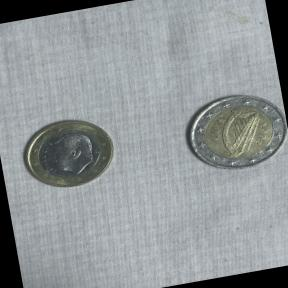coin: (170, 79, 288, 181), (14, 110, 122, 198)
